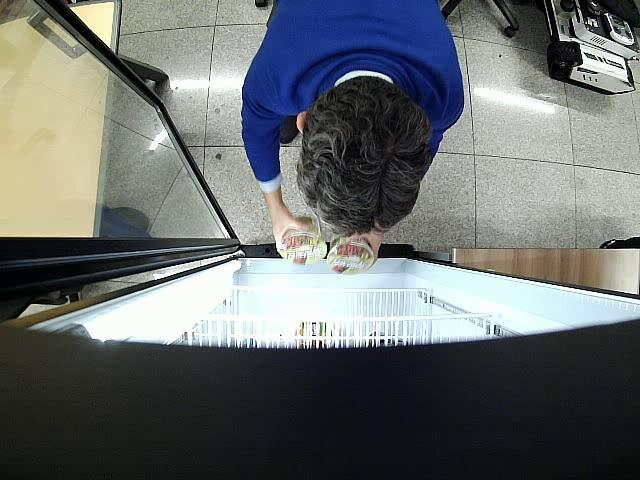00_hand: (271, 203, 310, 249), (350, 227, 383, 262)
03_chapagetti_L: (278, 216, 327, 265), (328, 234, 375, 275)
